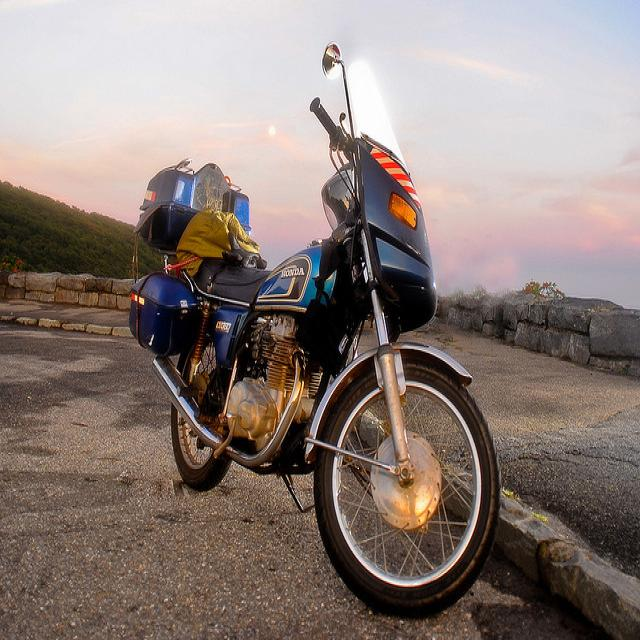motor: (128, 37, 505, 626)
